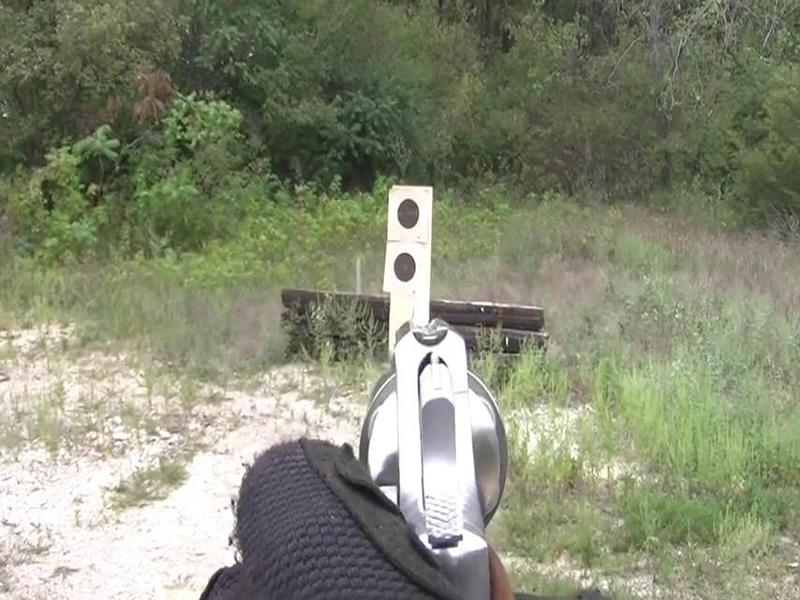Revolver: (349, 303, 527, 567)
